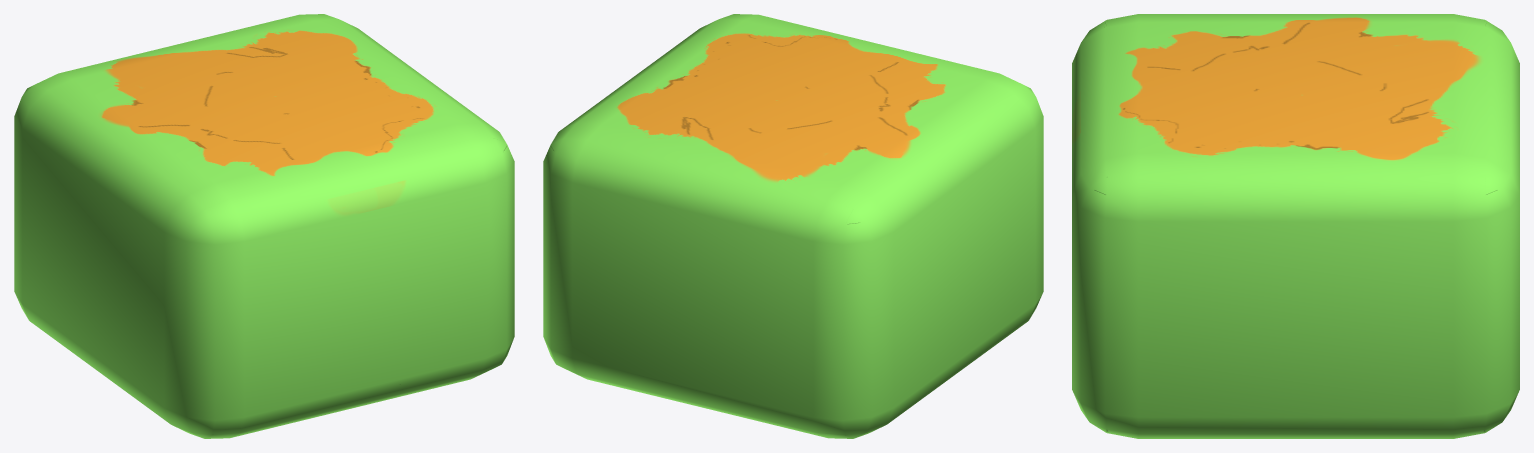
File: Tile2.fbx
The picture shows the model from 3 angles, left to right: view 1: azimuth 30°, elevation 25°; view 2: azimuth 150°, elevation 25°; view 3: azimuth 270°, elevation 25°; orthographic projection. The views are drawn at different scales.
Parts seen in each view (by area): view 1: Cube; view 2: Cube; view 3: Cube.
Part boxes in pixels (box(x1,y1,x2,y2)): Cube: box(14, 14, 514, 438); Cube: box(543, 14, 1043, 438); Cube: box(1072, 14, 1519, 438).
Bounding box in the file's own units: 1293 × 900 × 1316.
Materials: 1 (1 with a texture image).
